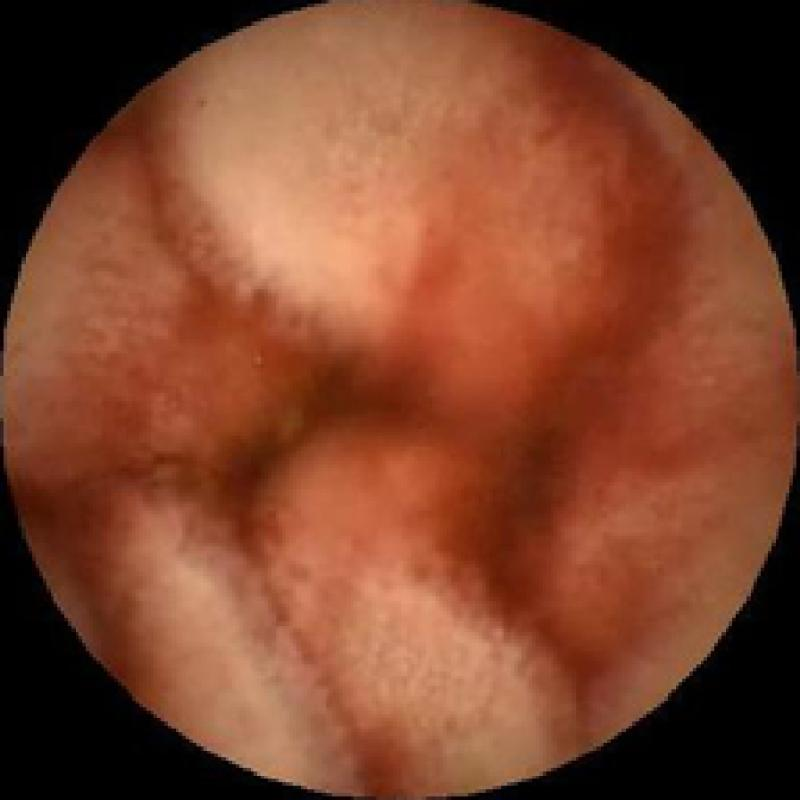bleeding: (140, 50, 640, 732)
